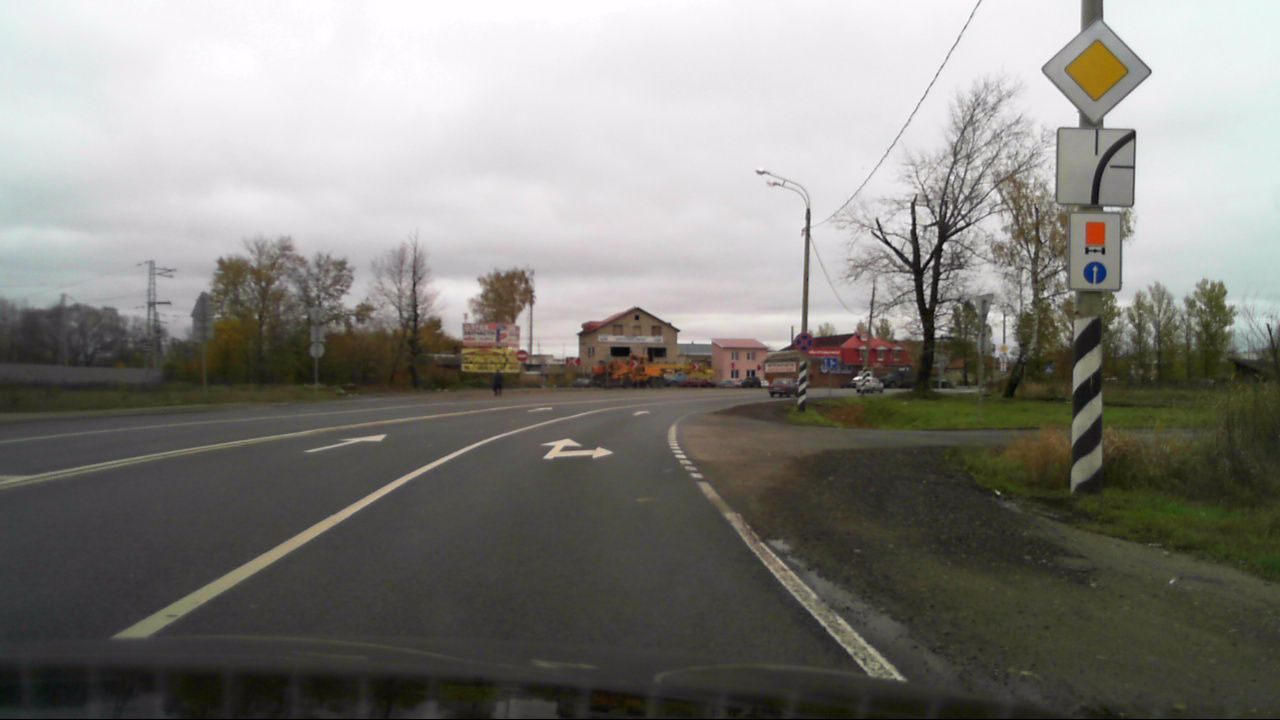No Parking: (794, 332, 814, 352)
